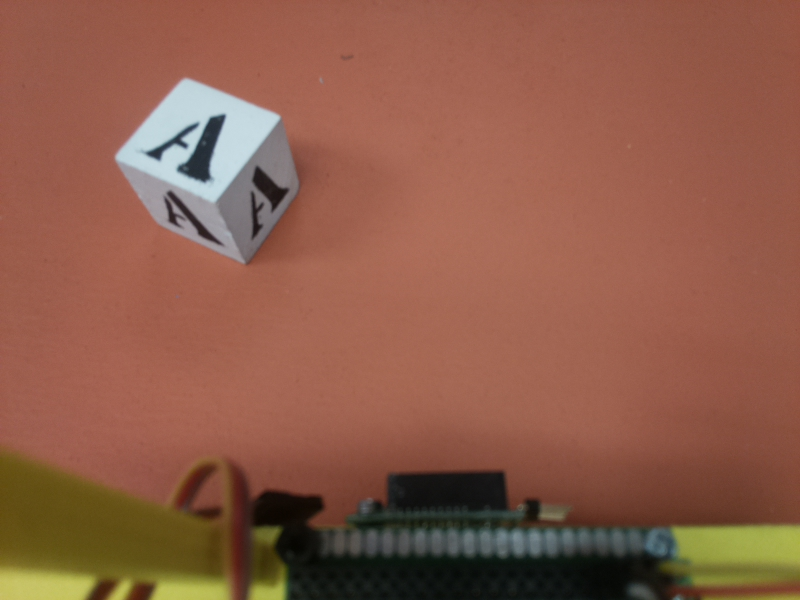blockA: (116, 75, 297, 270)
